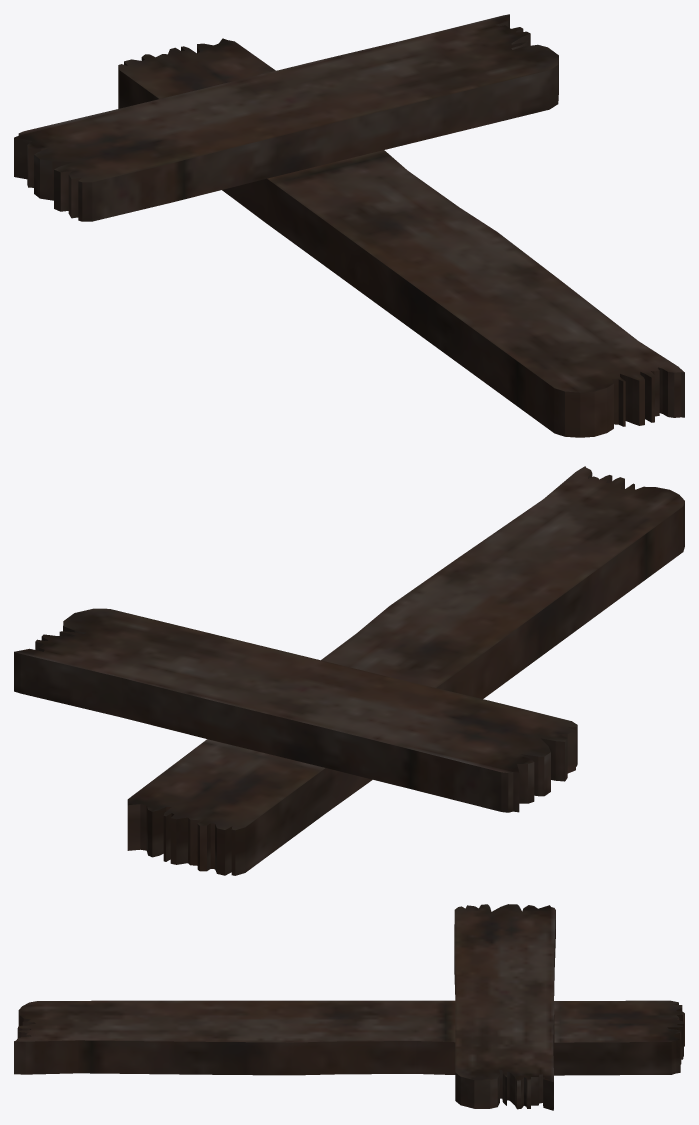
File: cross_1.obj
The picture shows the model from 3 angles, top to bottom: view 1: azimuth 30°, elevation 25°; view 2: azimuth 150°, elevation 25°; view 3: azimuth 270°, elevation 25°; orthographic projection. The views are drawn at different scales.
Visible parts, largest first — view 1: cross_1; view 2: cross_1; view 3: cross_1.
Boxes of the visible parts, x1,y1,x2,y2 form: cross_1: (14,14,684,437); cross_1: (14,466,684,875); cross_1: (14,904,684,1110).
Bounding box in the file's own units: 0.2666 × 0.043 × 0.4246.
